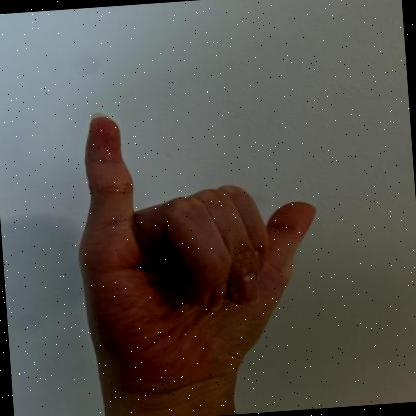Y: (79, 113, 316, 399)
